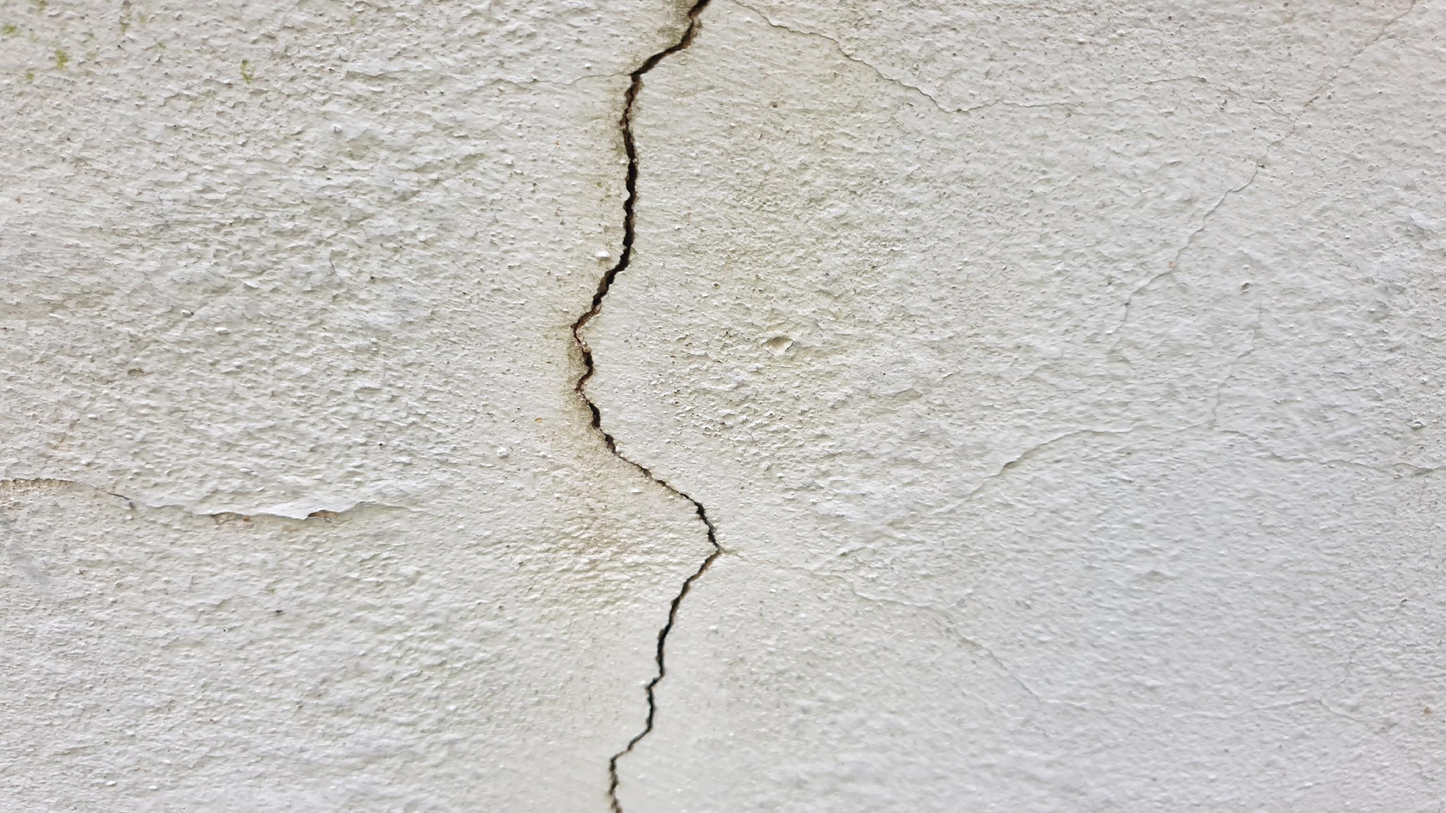crack: (573, 0, 719, 812)
